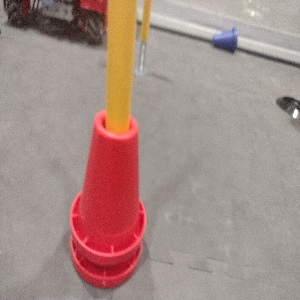Blue_1: (212, 25, 238, 53)
Red_2: (63, 107, 147, 289)
